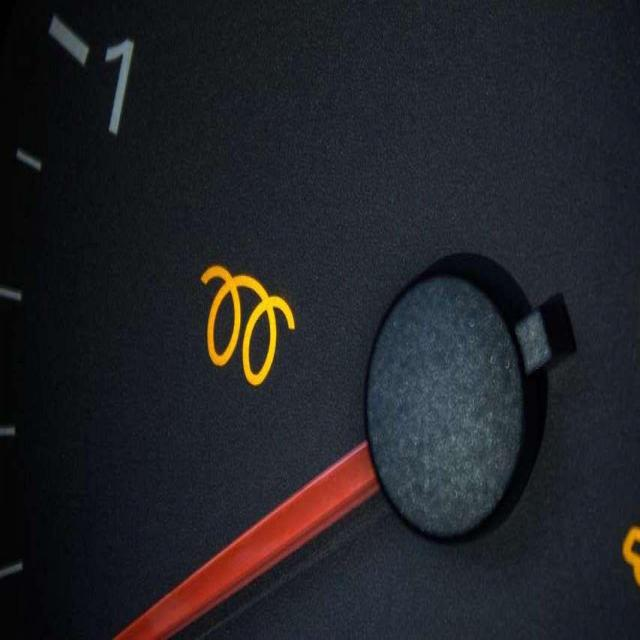kontrolka: (160, 198, 314, 441)
